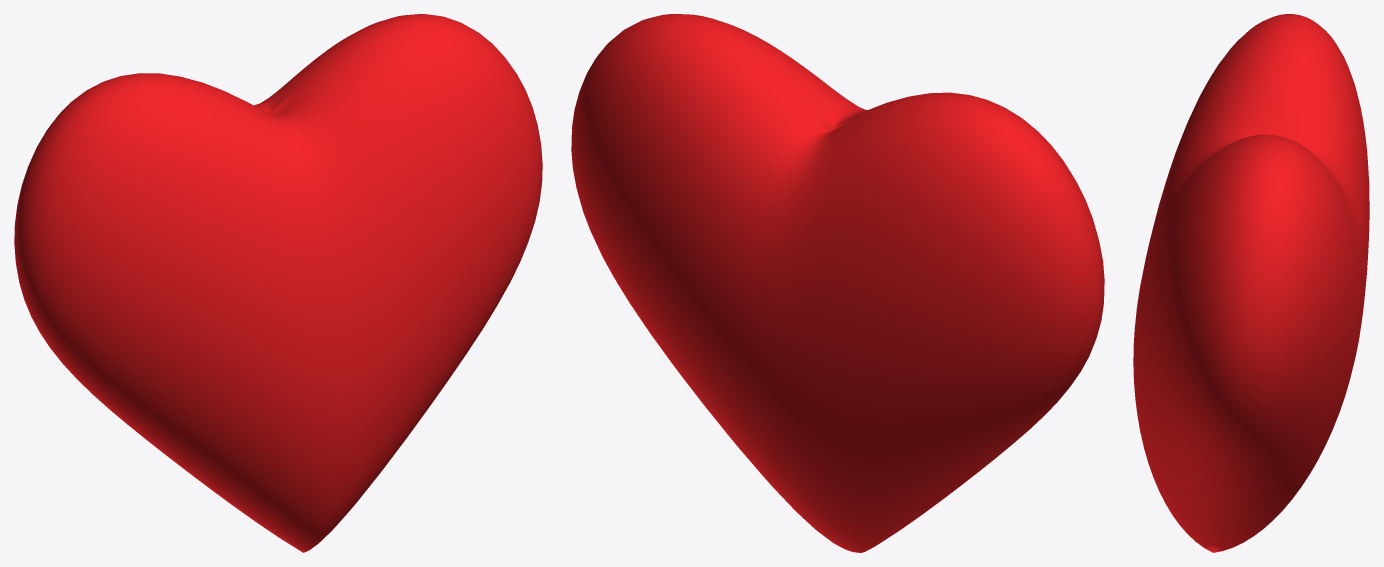
Rendered from Heart3D_Red.fbx.
3 renders of one model, left to right at view 1: azimuth 30°, elevation 25°; view 2: azimuth 150°, elevation 25°; view 3: azimuth 270°, elevation 25°, orthographic. The views are drawn at different scales.
Parts seen in each view (by area): view 1: node_id4; view 2: node_id4; view 3: node_id4.
Part boxes in pixels (x1,y1,x2,y2): node_id4: (14,14,542,552); node_id4: (571,14,1104,552); node_id4: (1133,14,1369,552).
Bounding box in the file's own units: 0.5519 × 0.5093 × 0.2328.
1 material, 1 textured.
